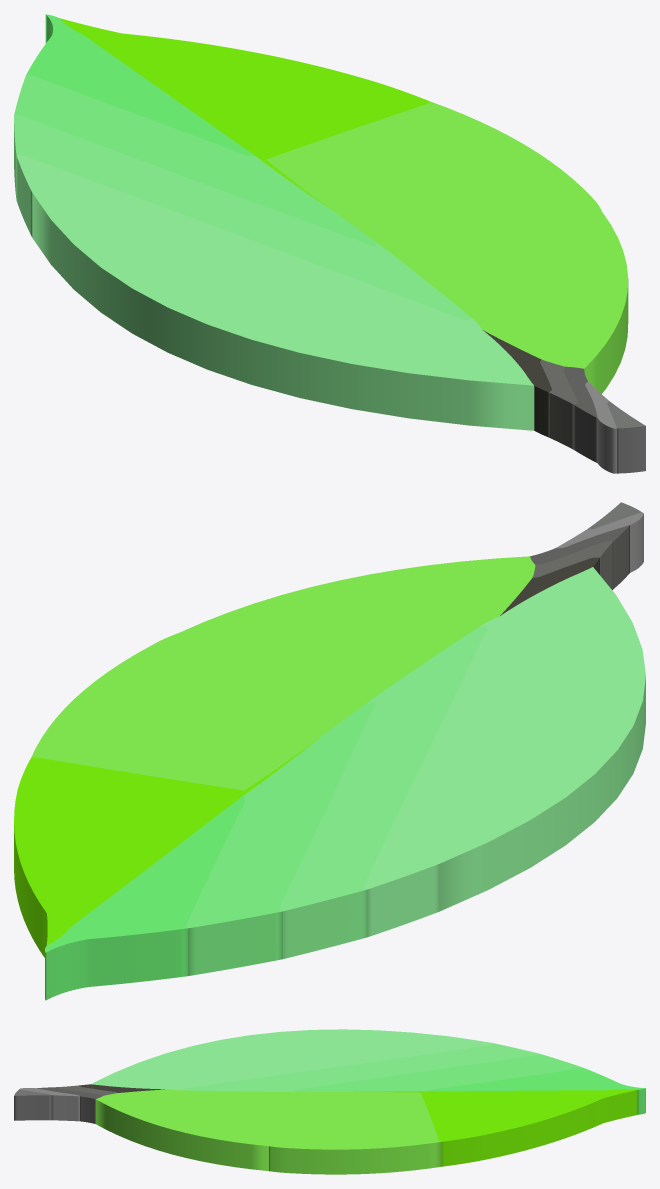
Rendered from mongodb.fbx.
3 renders of one model, top to bottom at view 1: azimuth 30°, elevation 25°; view 2: azimuth 150°, elevation 25°; view 3: azimuth 270°, elevation 25°, orthographic. The views are drawn at different scales.
Parts seen in each view (by area): view 1: Curve.005, Curve.006, Curve.007, Curve.001, Curve.003, Curve.004, Curve.002, Curve, Curve.010, Curve.009, Curve.012, Curve.008 (+1 smaller); view 2: Curve.005, Curve.006, Curve.001, Curve.003, Curve.007, Curve.004, Curve.002, Curve, Curve.010, Curve.009, Curve.011, Curve.008; view 3: Curve.006, Curve.001, Curve.007, Curve.005, Curve.003, Curve.004, Curve.002, Curve, Curve.012, Curve.011, Curve.010, Curve.008 (+1 smaller).
Boxes of the visible parts, <box> form: Curve.005: <box>32,192,534,430</box>; Curve.006: <box>266,101,601,277</box>; Curve.007: <box>422,211,628,393</box>; Curve.001: <box>59,18,429,208</box>; Curve.003: <box>14,115,471,319</box>; Curve.004: <box>16,155,524,372</box>; Curve.002: <box>14,75,376,246</box>; Curve: <box>26,14,255,156</box>; Curve.010: <box>564,366,597,462</box>; Curve.009: <box>540,360,577,449</box>; Curve.012: <box>607,401,645,473</box>; Curve.008: <box>483,330,551,437</box>; Curve.005: <box>437,567,645,911</box>; Curve.006: <box>31,633,417,790</box>; Curve.001: <box>14,738,318,957</box>; Curve.003: <box>279,626,487,958</box>; Curve.007: <box>179,556,535,669</box>; Curve.004: <box>364,577,572,937</box>; Curve.002: <box>186,702,375,975</box>; Curve: <box>45,796,245,1000</box>; Curve.010: <box>530,525,629,588</box>; Curve.009: <box>532,541,613,589</box>; Curve.011: <box>556,512,643,572</box>; Curve.008: <box>500,557,599,615</box>; Curve.006: <box>244,1091,441,1174</box>; Curve.001: <box>354,1089,638,1166</box>; Curve.007: <box>95,1089,268,1170</box>; Curve.005: <box>91,1029,447,1085</box>; Curve.003: <box>183,1043,539,1091</box>; Curve.004: <box>107,1036,493,1090</box>; Curve.002: <box>292,1054,581,1091</box>; Curve: <box>428,1067,645,1114</box>; Curve.012: <box>14,1089,51,1120</box>; Curve.011: <box>19,1088,79,1121</box>; Curve.010: <box>37,1087,102,1123</box>; Curve.008: <box>79,1084,164,1092</box>.
Bounding box in the file's own units: 6.2 × 0.6 × 13.77.
